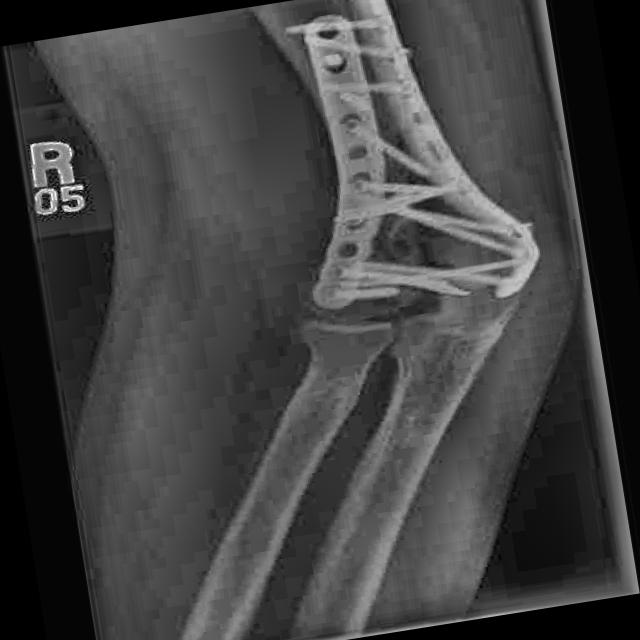elbow positive: (364, 211, 485, 267)
